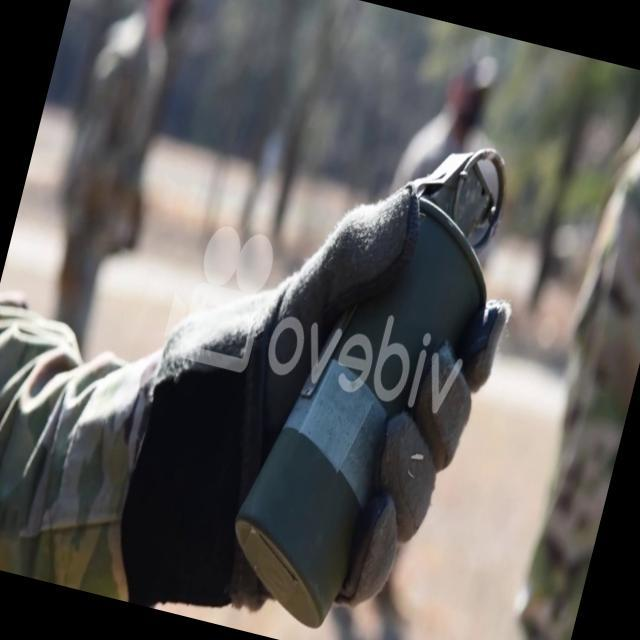grenade: (212, 106, 538, 640)
